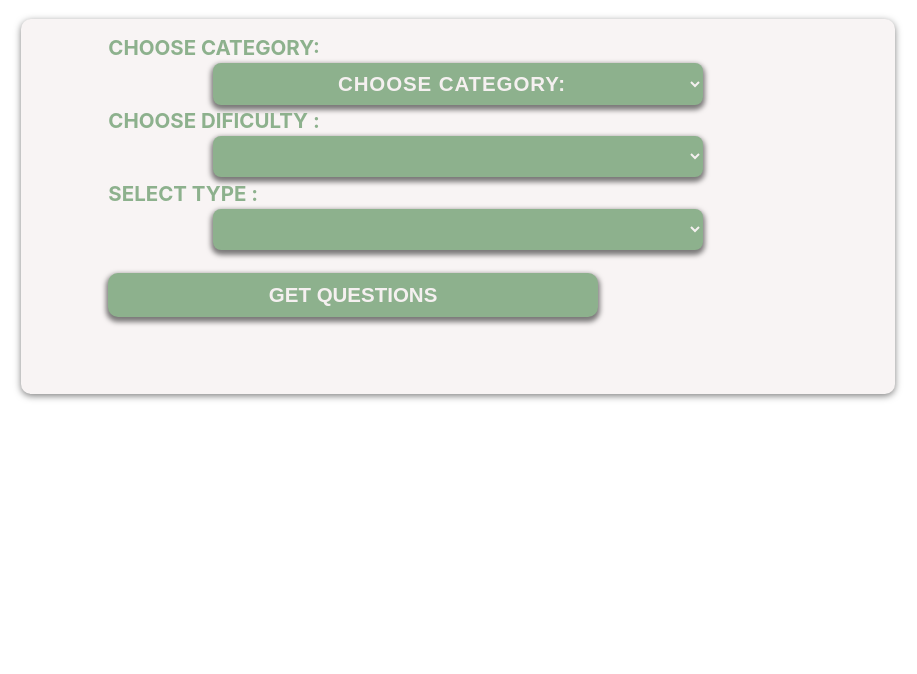
Test: Quizz Component › Quizz component rendering
Select "General Knowledge" in the dropdown labelled "Choose Category:" at (458, 84), box [213,63,703,105]
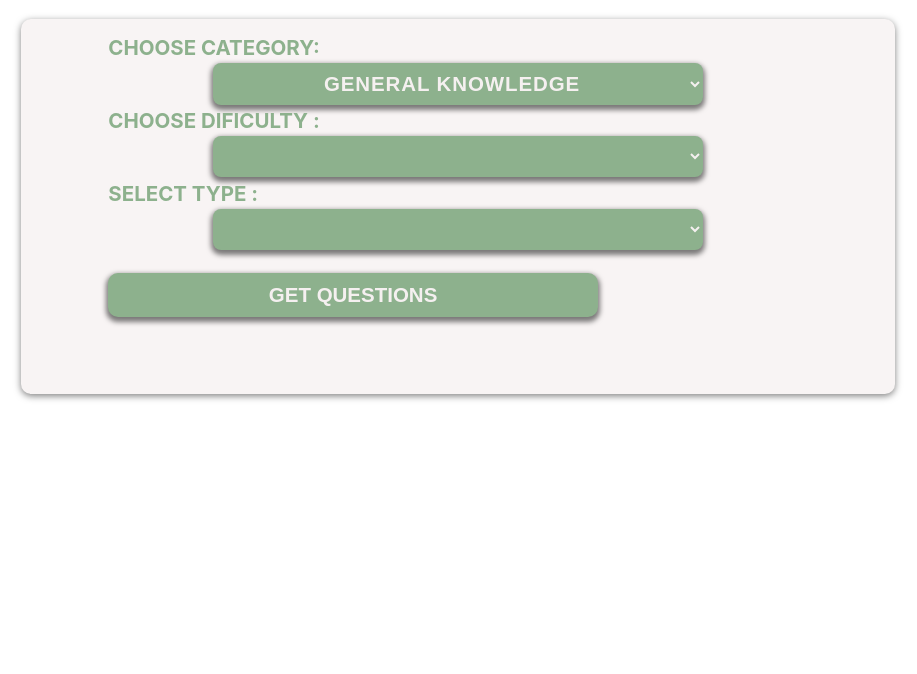
Select "Hard" in the dropdown labelled "Choose Dificulty :" at (458, 157), box [213,136,703,177]
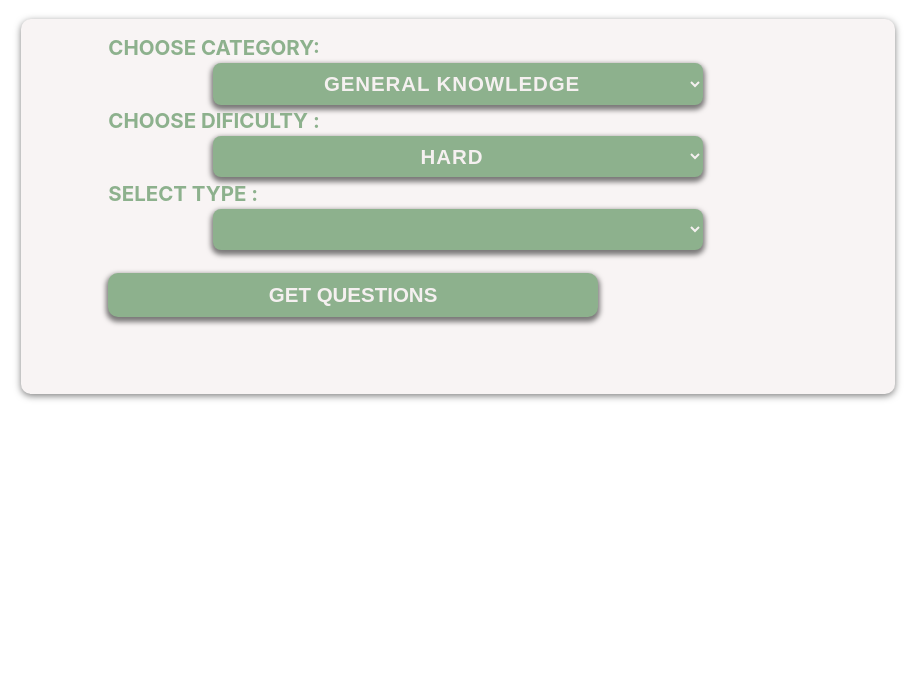
Select "Multiple Choise" in the dropdown labelled "Select Type :" at (458, 229), box [213,209,703,250]
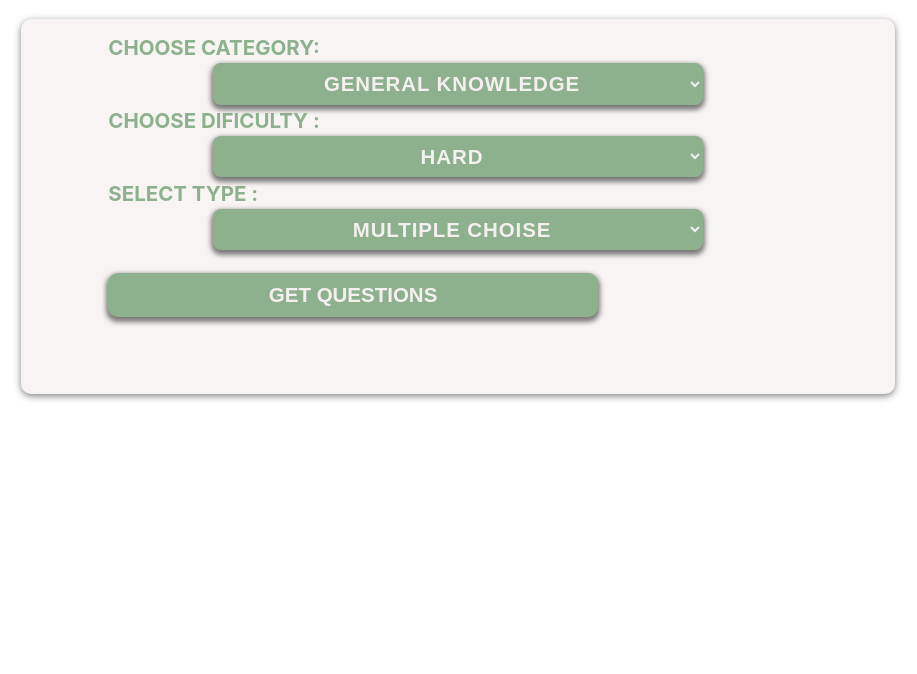
Click the button "Get Questions" at (353, 295), box [108,273,598,317]
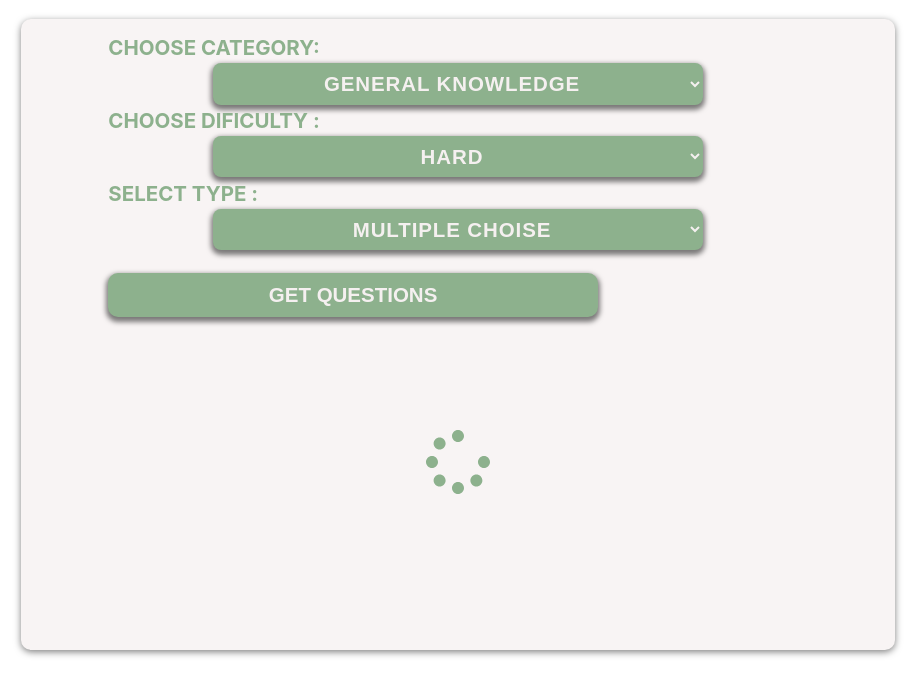
Now the element with test id "spinner" is shown, box [426,430,490,494]
